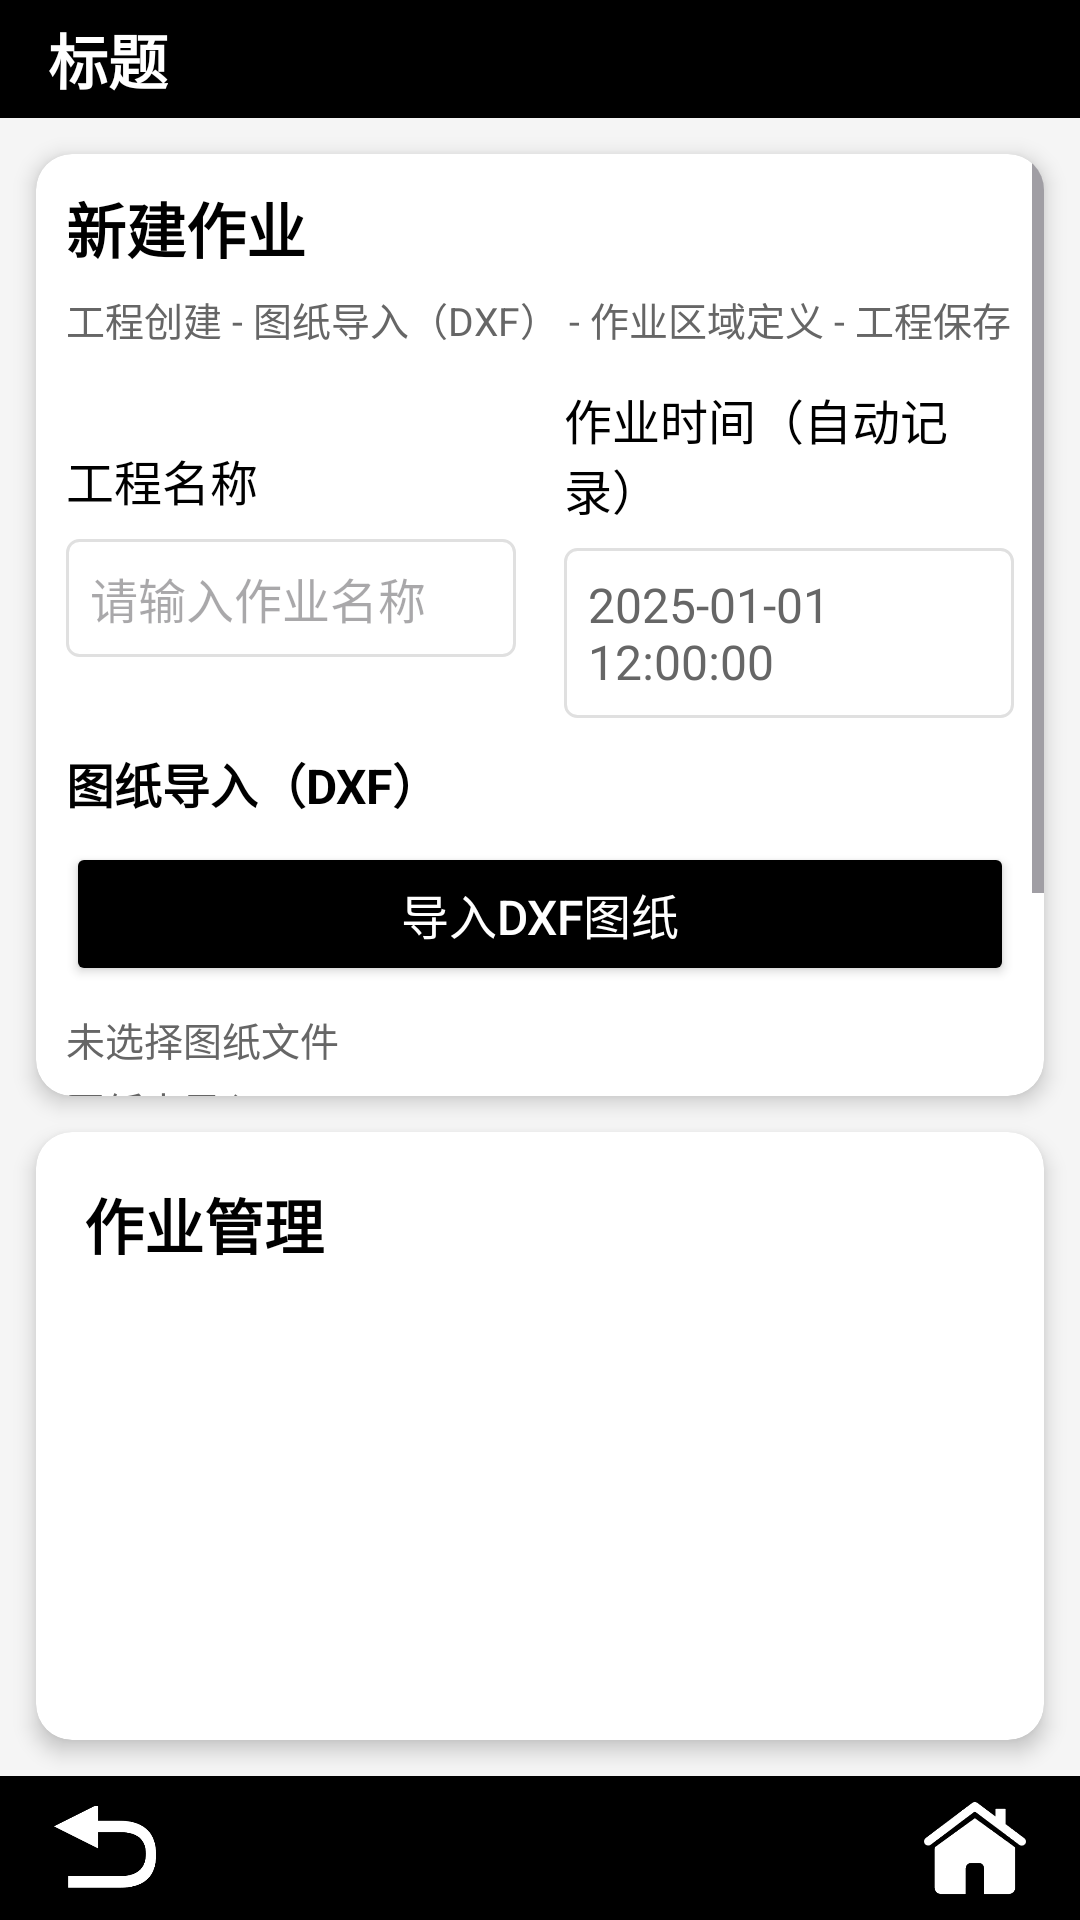

Where to tap for icons on this 1080*1920 app screen, as (x,y):
返回: (105,1847)
